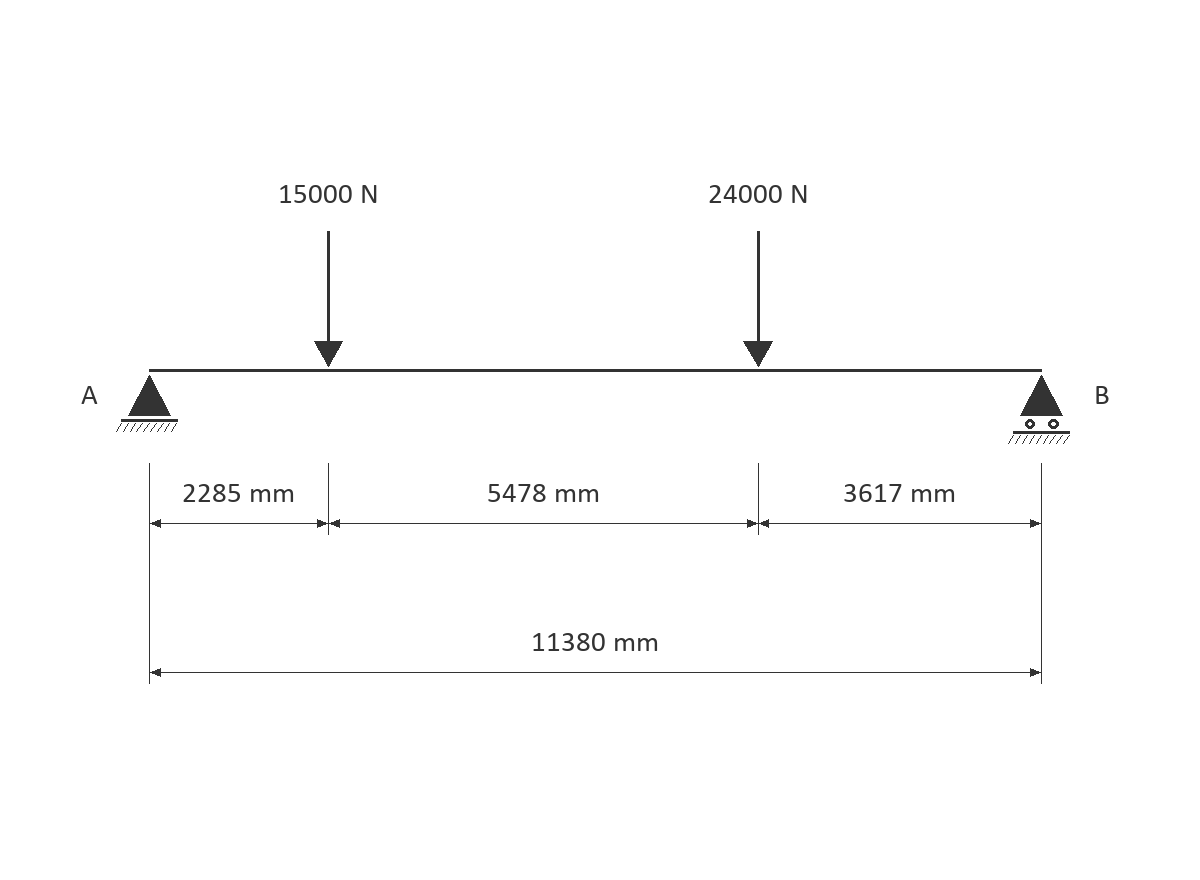pin_support: (116, 375, 178, 432)
point_load: (743, 231, 773, 367), (314, 231, 343, 367)
roller_support: (1008, 375, 1070, 444)
